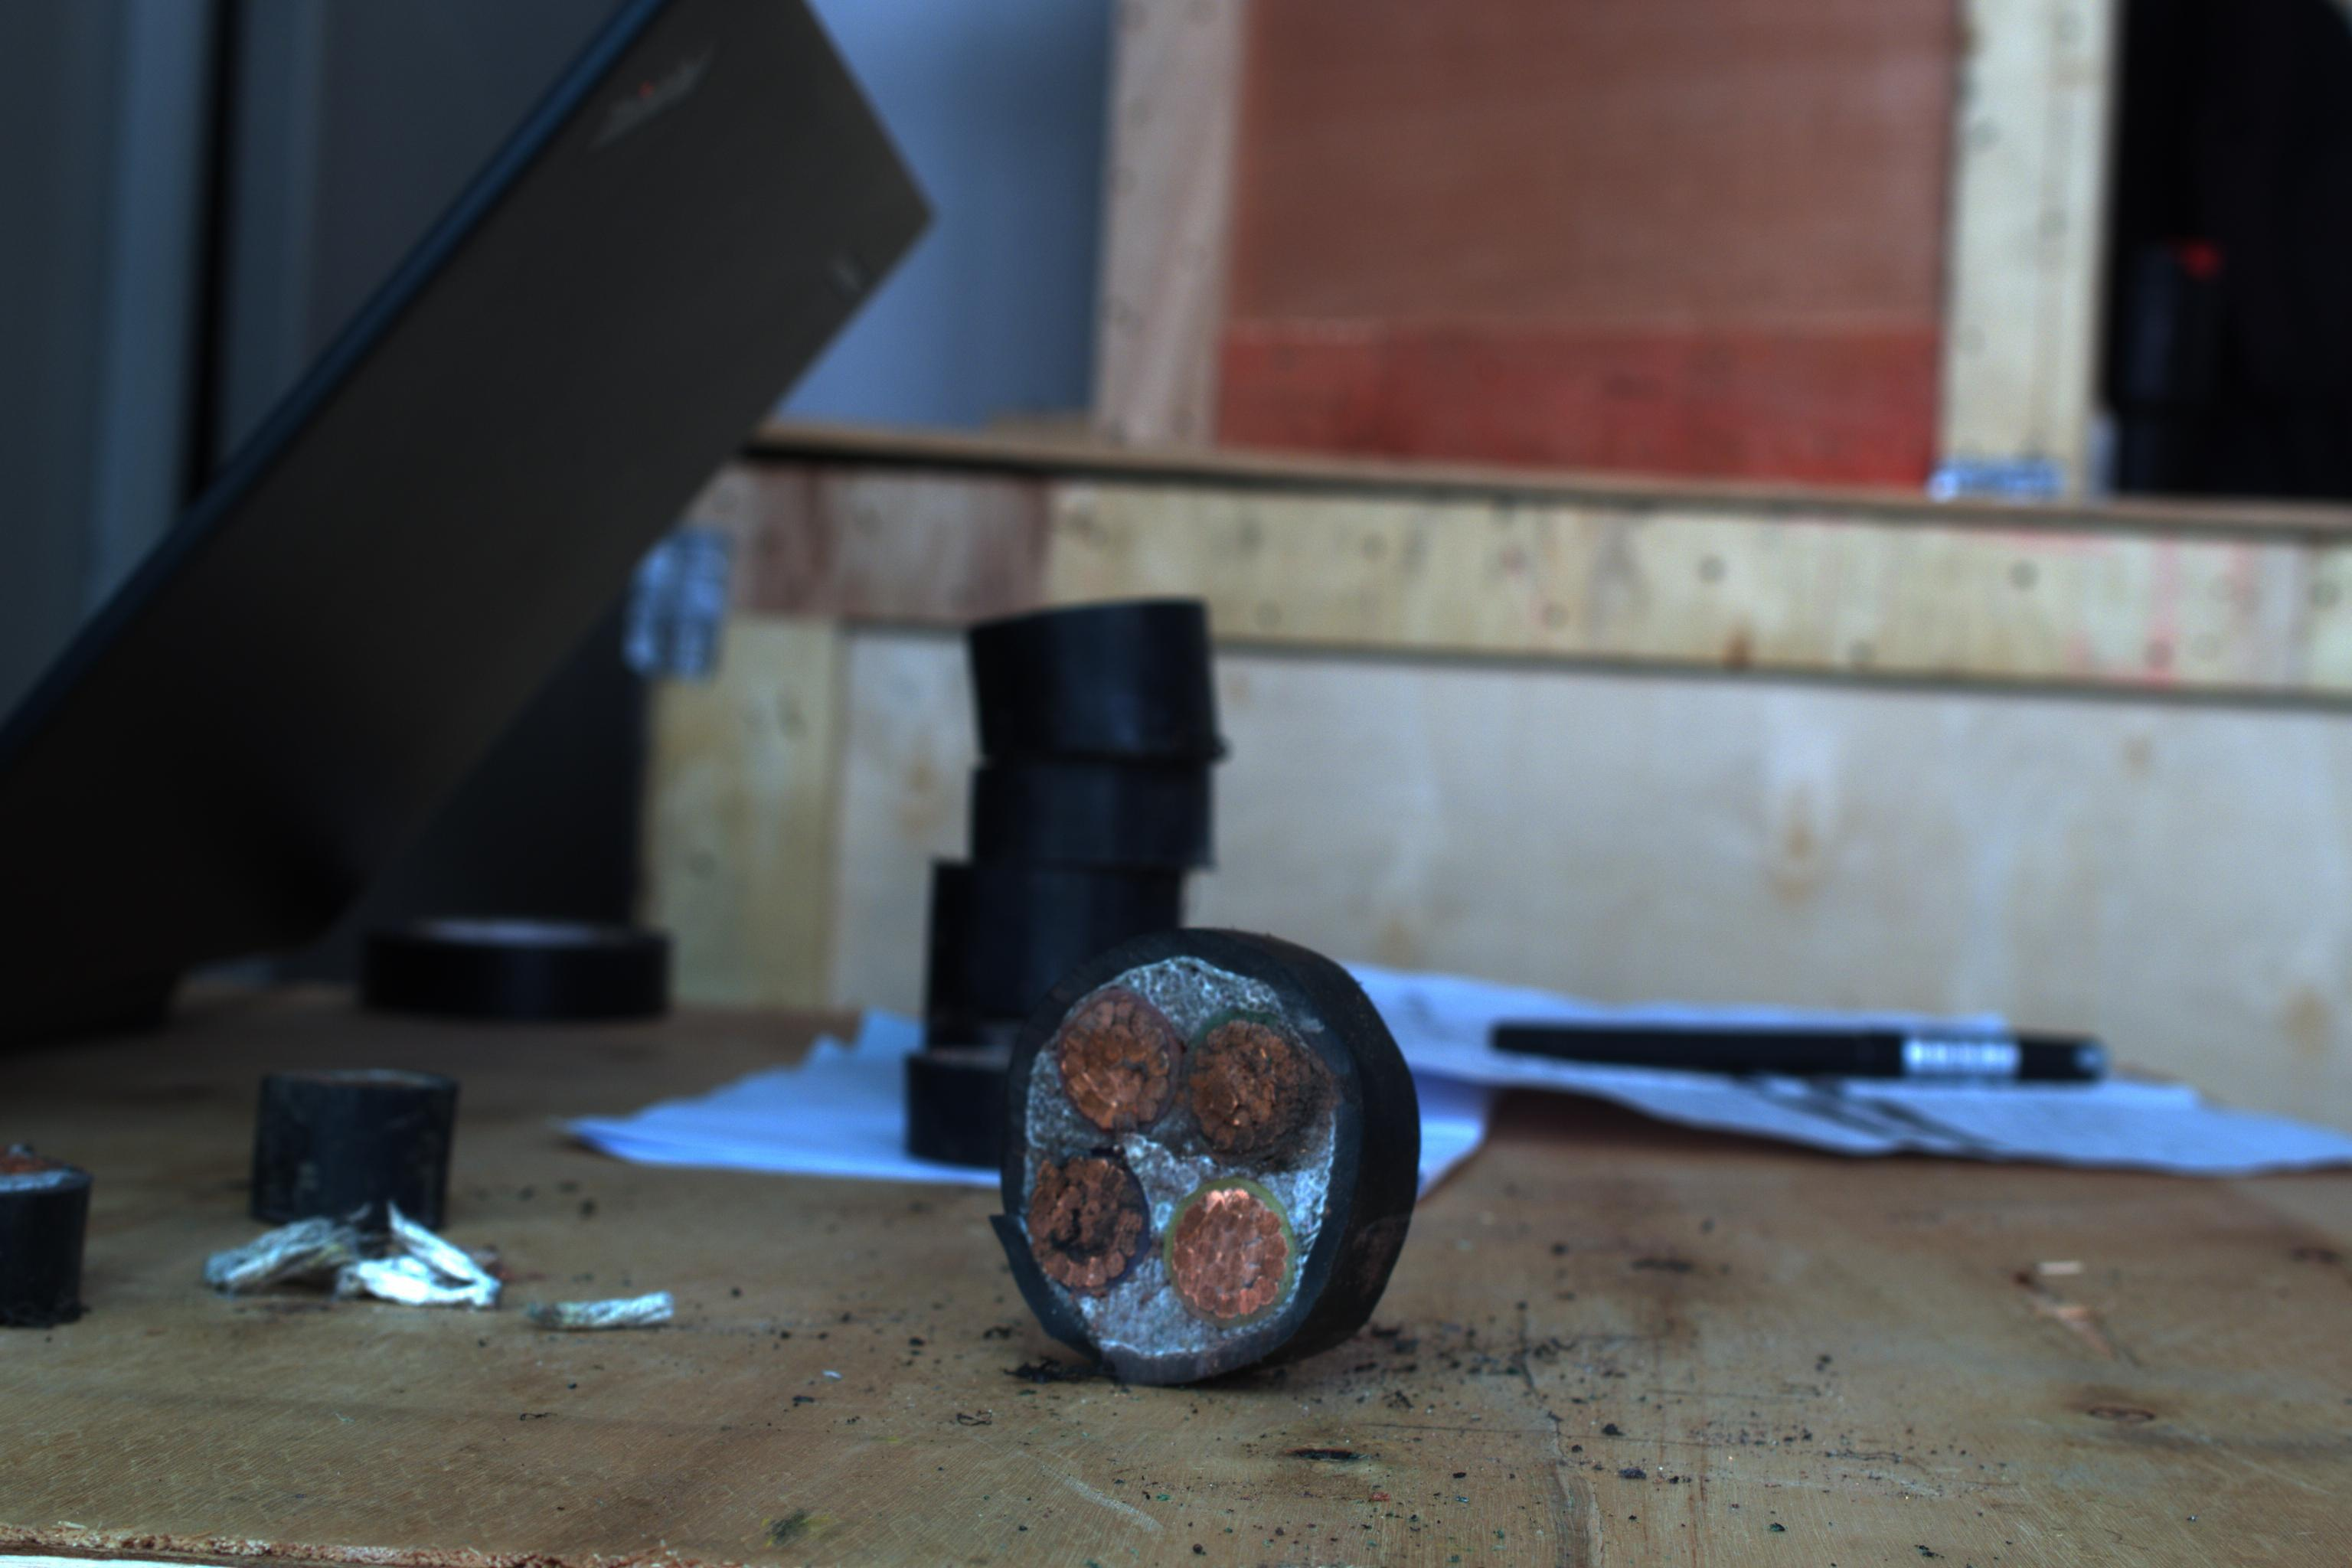YJV_0.6_1kV_4x120: (1004, 931, 1354, 1374)
